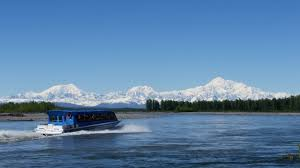boat: (35, 108, 121, 137)
